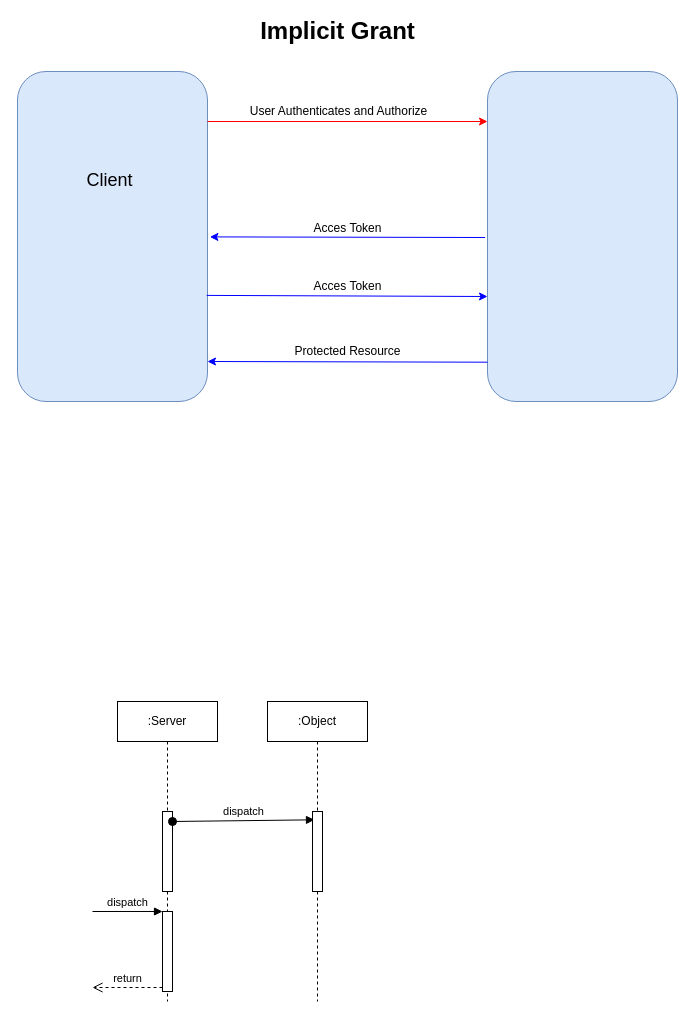
Image size: 695x1019. Some labels were removed from this diagram. The box of each missing label's shape, as (x1, y1, x2, y2) in pixels:
AWS Cognito: (486, 70, 678, 402)
SPA Application: (16, 70, 208, 402)
